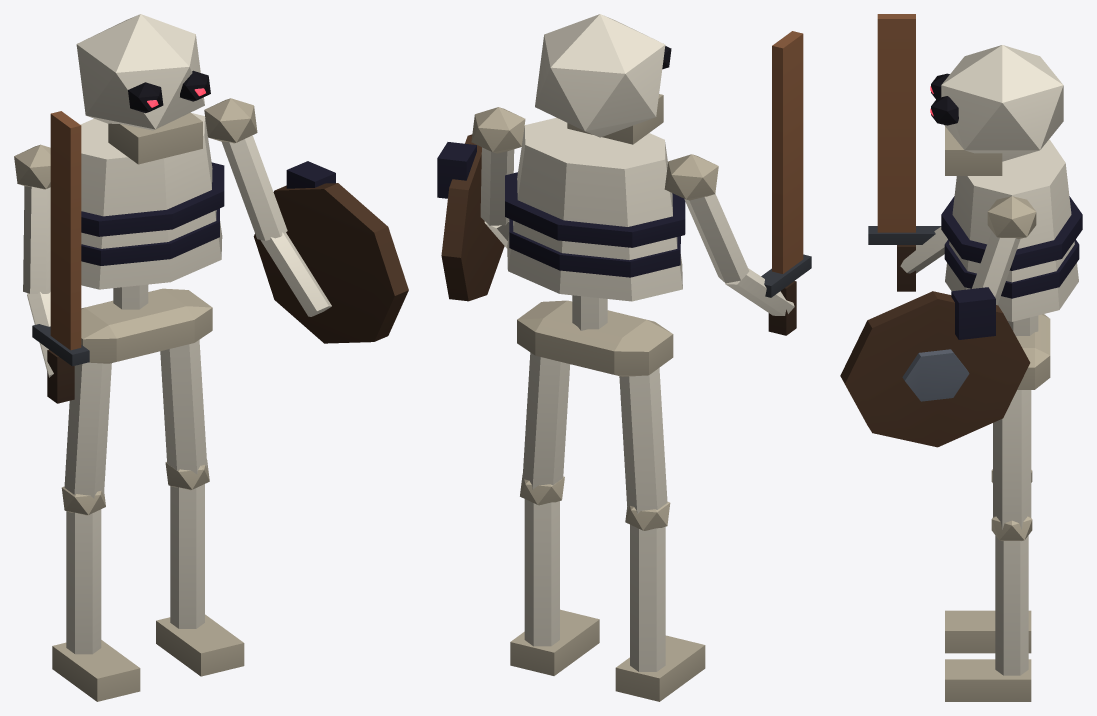
The model's file is enemy_skeleton.glb.
3 views of the same model, side by side, from view 1: azimuth 30°, elevation 25°; view 2: azimuth 150°, elevation 25°; view 3: azimuth 270°, elevation 25° (orthographic). The views are drawn at different scales.
Parts seen in each view (by area): view 1: enemy_skeleton; view 2: enemy_skeleton; view 3: enemy_skeleton.
Part boxes in pixels (bbox=[...]): enemy_skeleton: bbox=[14, 14, 408, 701]; enemy_skeleton: bbox=[437, 14, 811, 701]; enemy_skeleton: bbox=[840, 14, 1082, 701].
Size of the model in its own units: 0.9 by 1.7 by 0.6.
